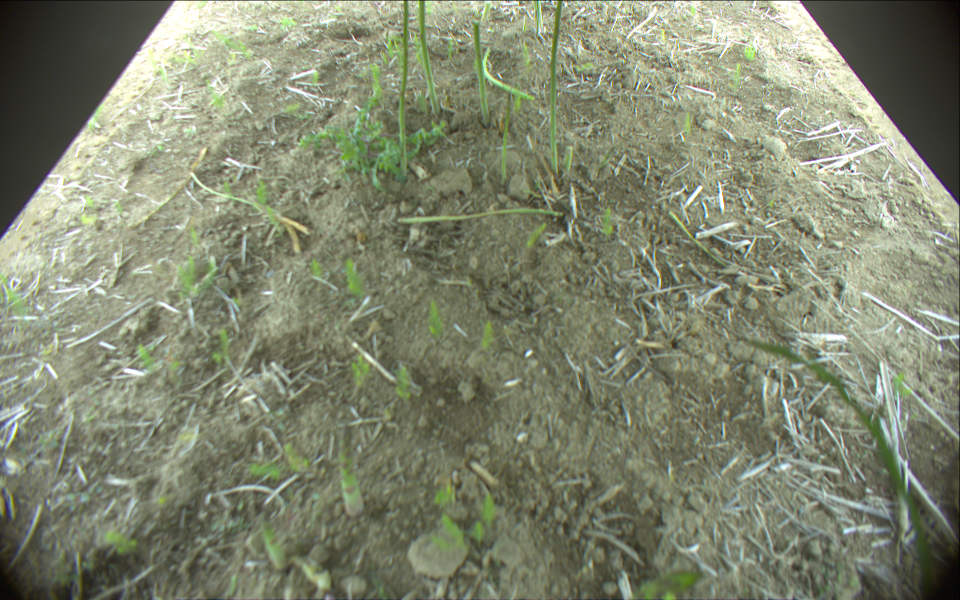aspa: (739, 337, 942, 600), (191, 172, 310, 233), (482, 47, 536, 101), (397, 209, 566, 224), (418, 1, 439, 117), (549, 1, 562, 175), (338, 424, 361, 518), (473, 24, 491, 126), (260, 511, 286, 573), (399, 1, 408, 177), (501, 92, 512, 182), (534, 1, 542, 35), (565, 146, 573, 172), (481, 1, 490, 22)
